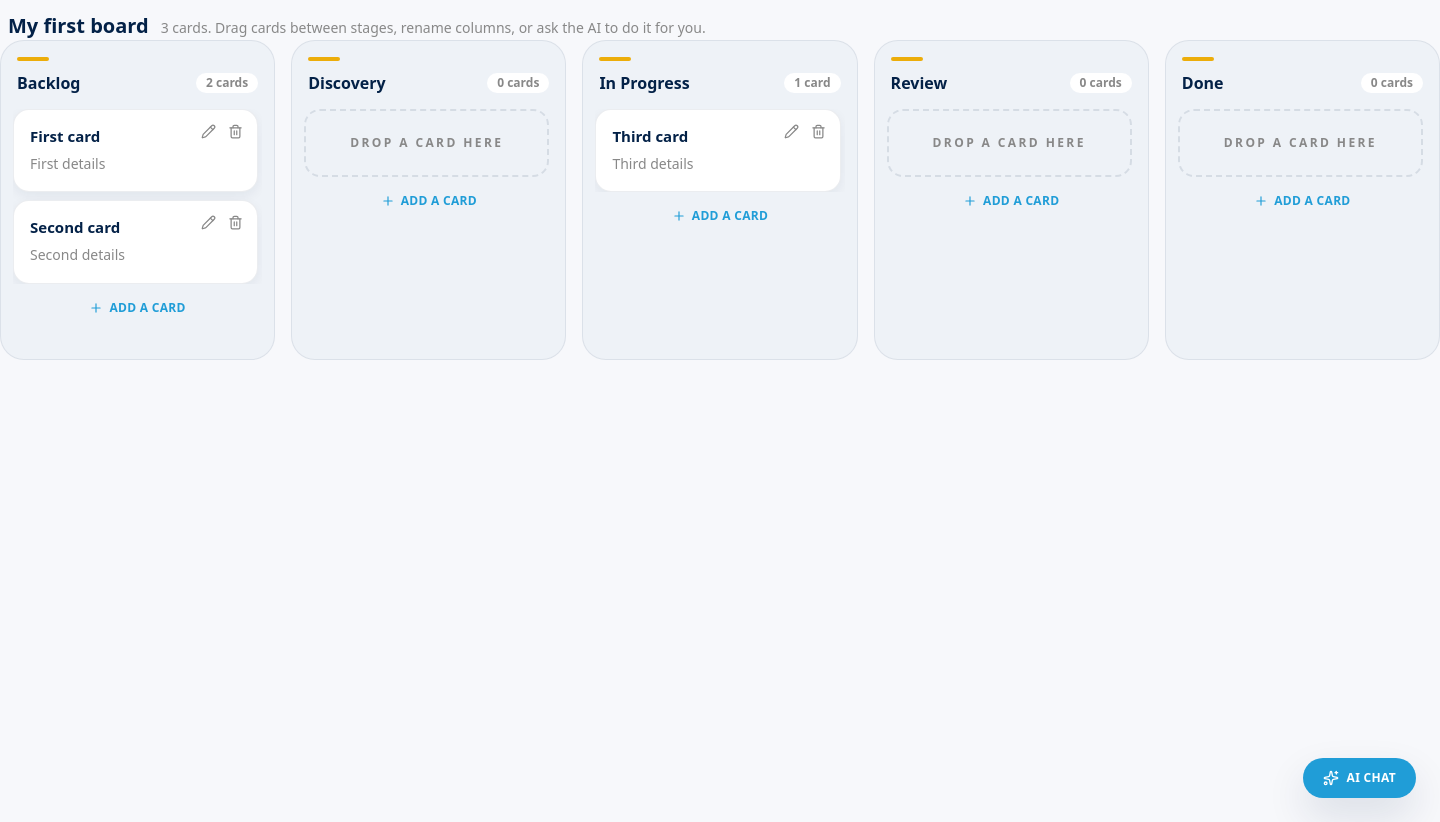
it: ChatSidebar › shows an error when the request fails
The image size is (1440, 822).
Click the button "AI chat" at (1359, 778), box 1303,758 -> 1416,798
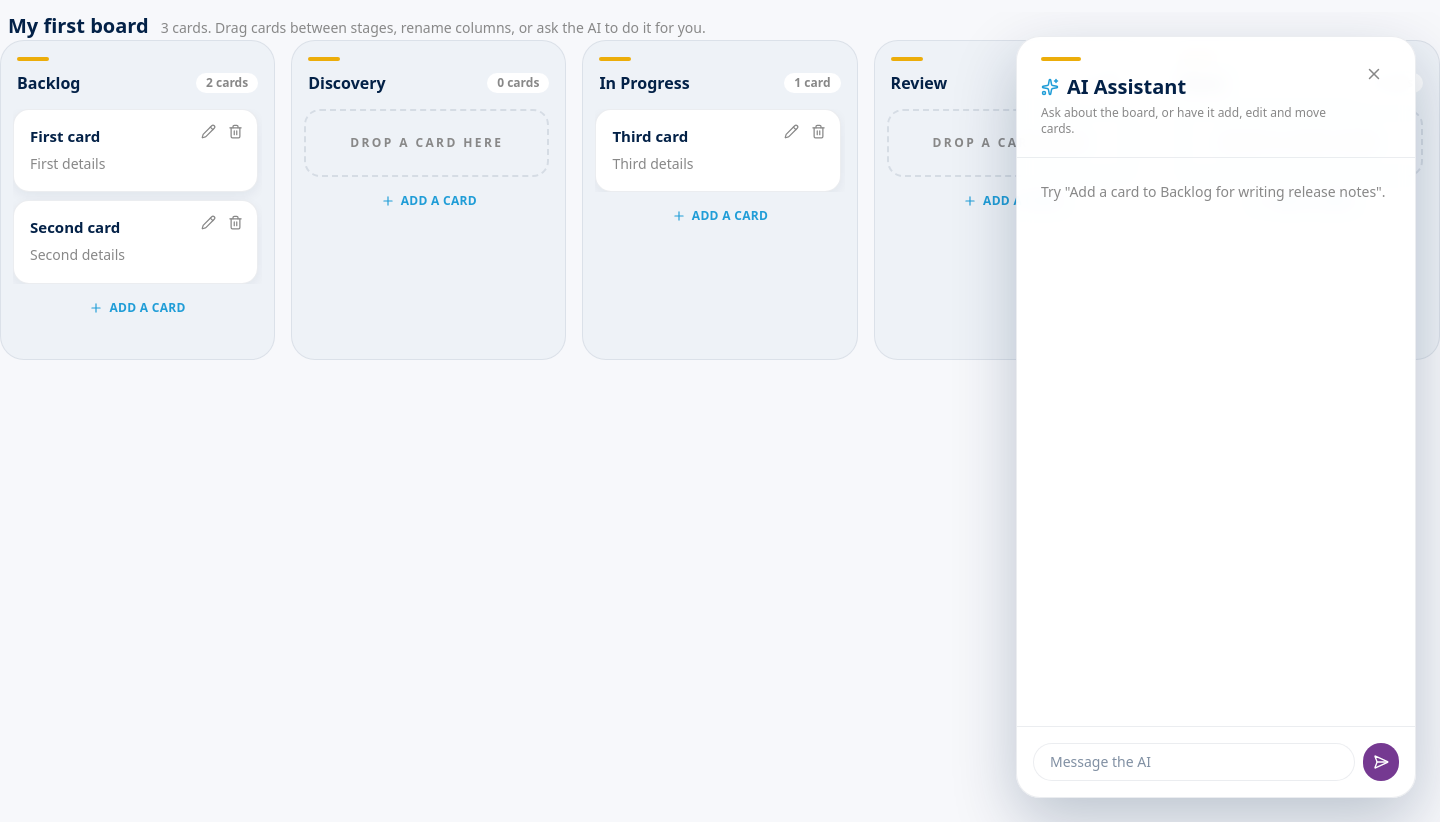
Type "Hello" into the field named "Chat message" at (1194, 762), box 1033,743 -> 1355,781
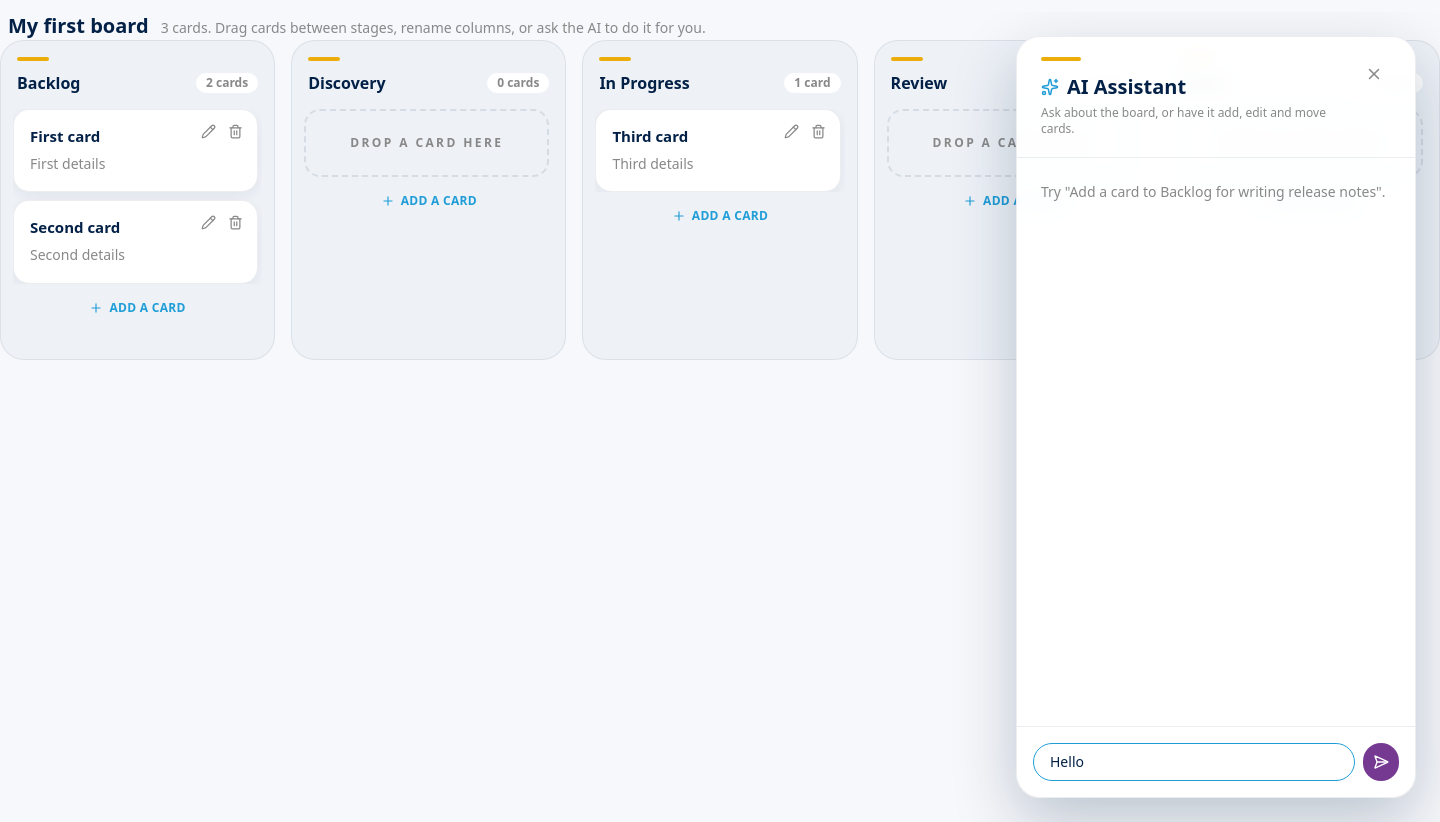
Click the button named "Send" at (1381, 762), box 1363,743 -> 1399,781
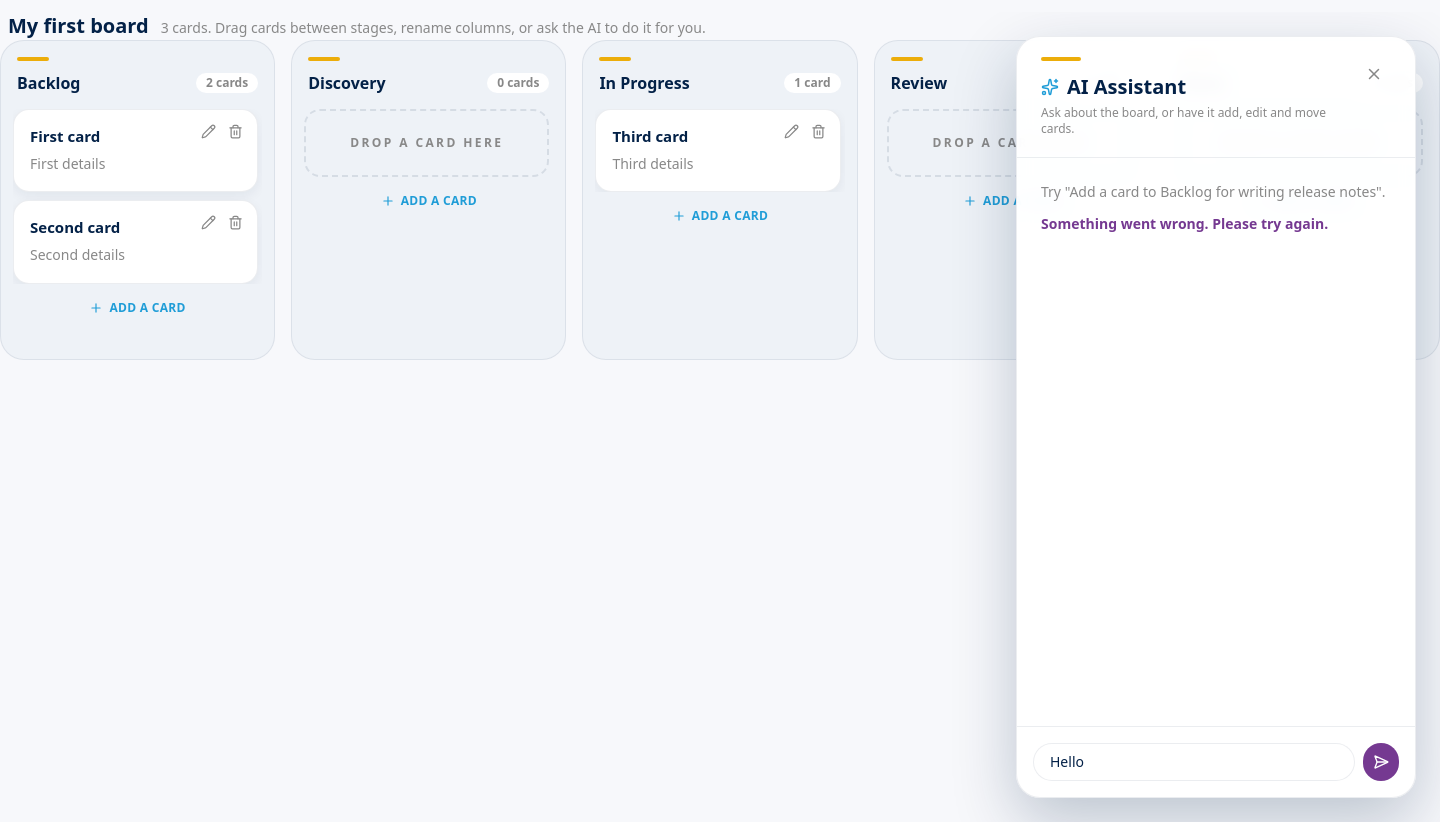
Check: the message shows "Something went wrong", box 1041,214 -> 1328,233
